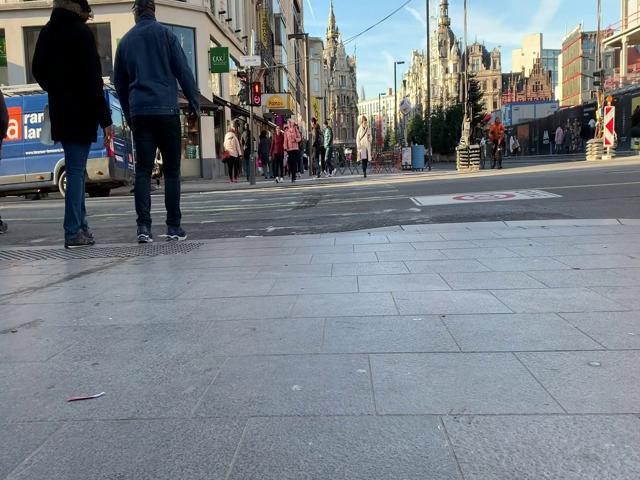shoe: (64, 231, 96, 249), (167, 228, 187, 241), (137, 232, 154, 243)
